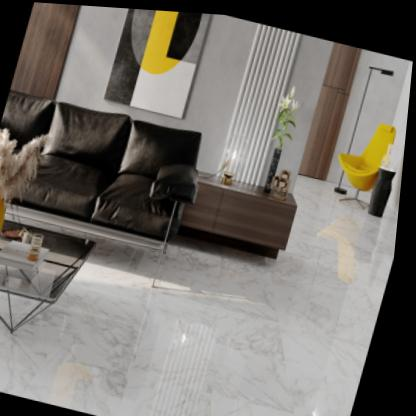Ceramic floor: (55, 244, 395, 416)
Chair: (340, 118, 397, 206)
Frame: (106, 7, 211, 115)
Sofa: (0, 89, 203, 285)
TV stand: (182, 168, 301, 255)
